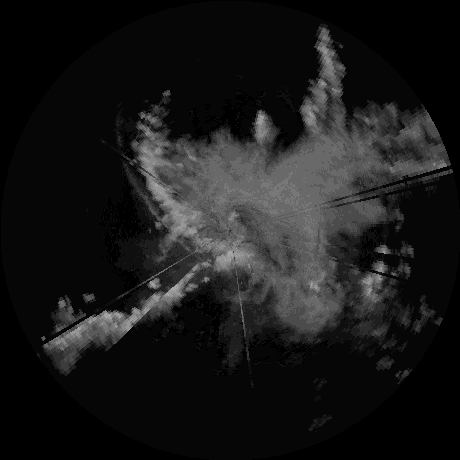frontgust: (113, 127, 160, 219), (175, 237, 194, 253)
